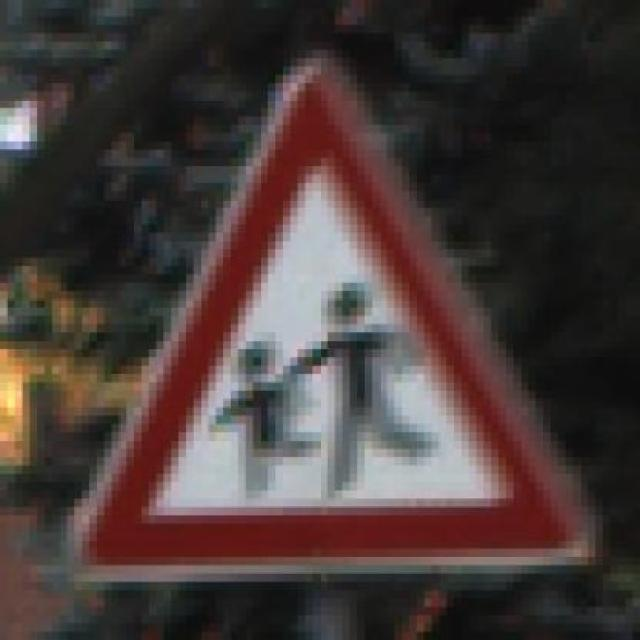Beware of children: (59, 58, 596, 582)
